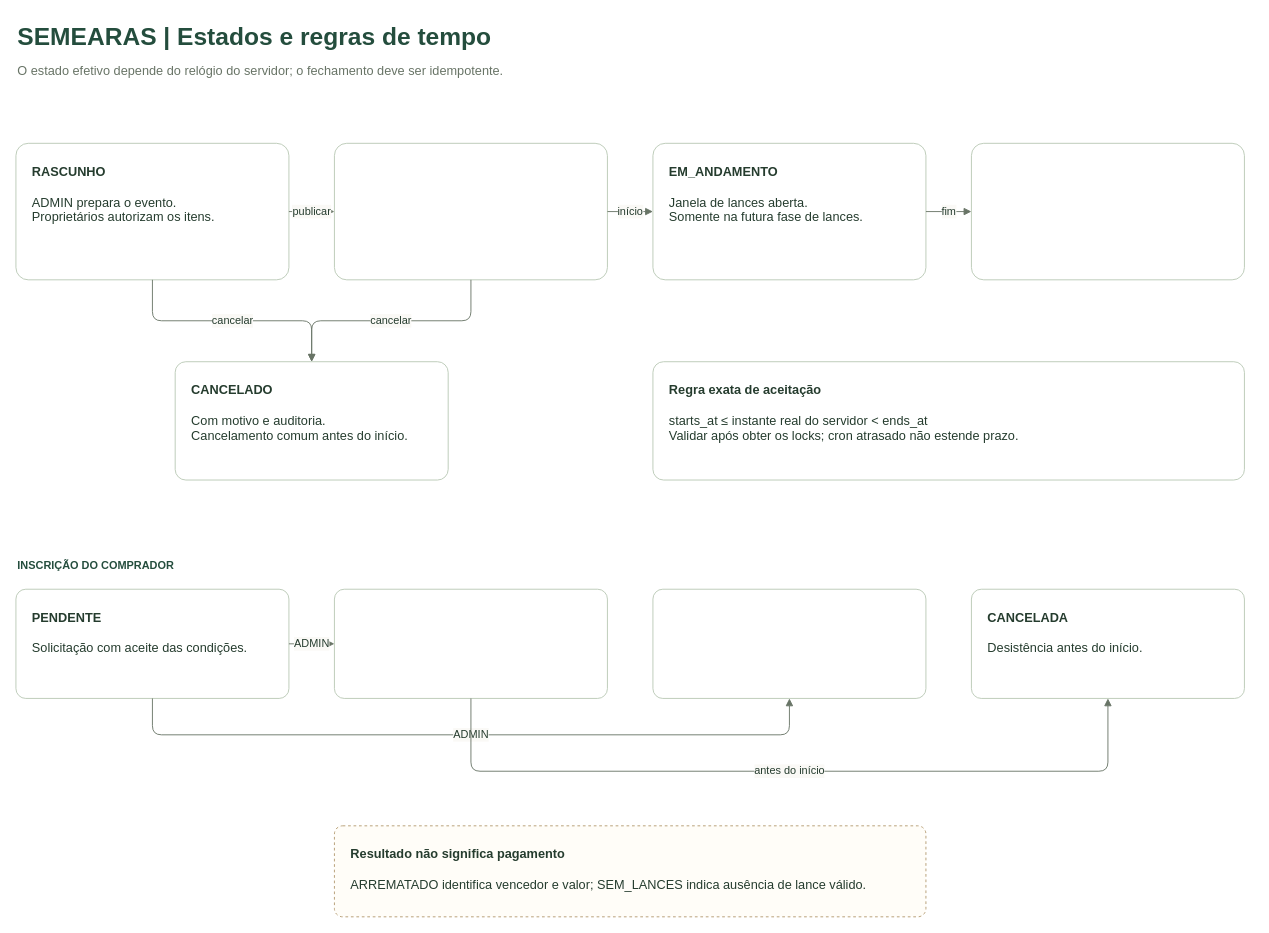
This 1269x933 diagram has some shape labels left out. The centre of each missing label's shape, as x and y in pixels:
AGENDADO Publicado com lotes aprovados. Inscrições e análise até o início.: point 470,211
APROVADA Pode disputar itens de outros donos.: point 470,643
ENCERRADO Não aceita novos lances. Apuração de resultados por lote.: point 1107,211
RECUSADA Motivo registrado; histórico preservado.: point 789,643
